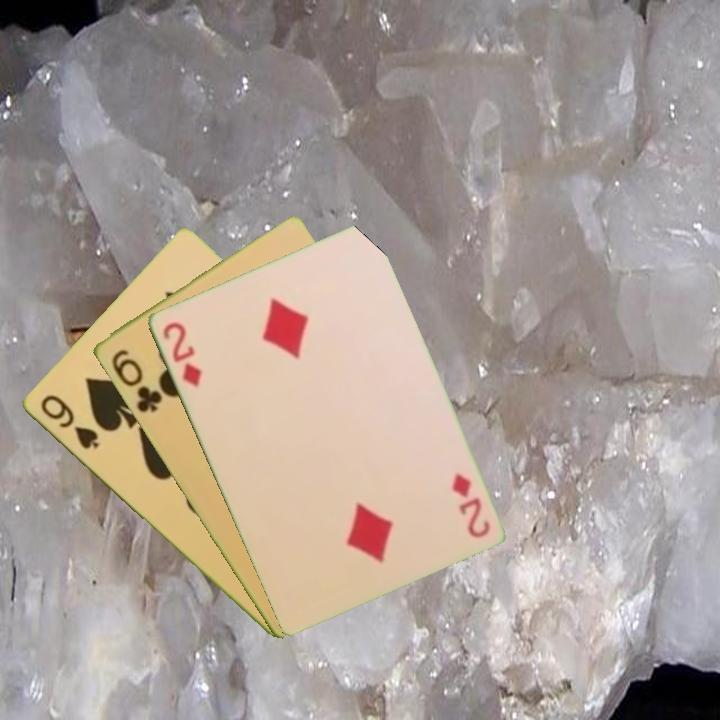2d: (158, 318, 204, 389), (448, 470, 493, 541)
6c: (107, 345, 165, 416)
9s: (36, 391, 101, 452)
